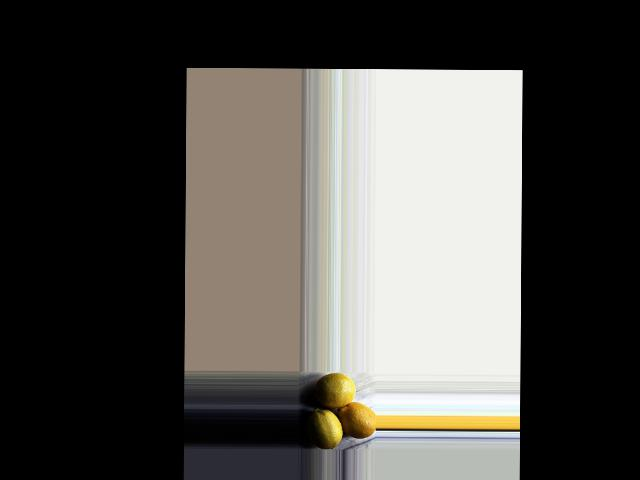lemon: (310, 372, 355, 405)
